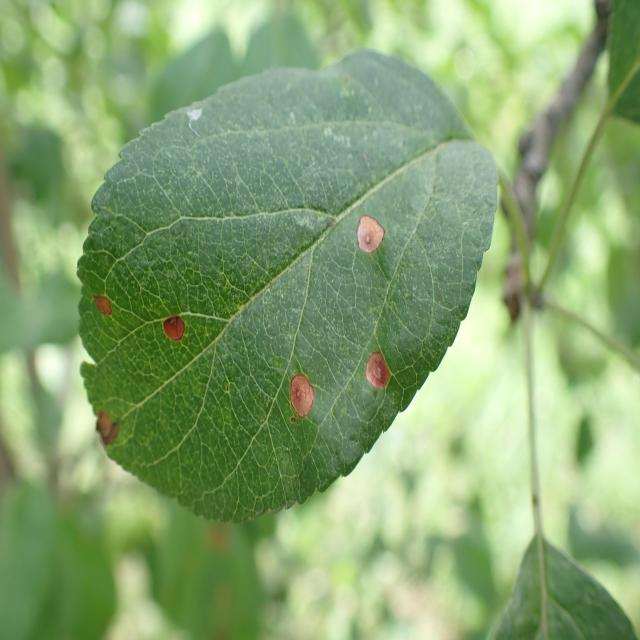Black Rot: (276, 344, 321, 432), (85, 391, 137, 462), (352, 183, 384, 265), (359, 332, 392, 407), (156, 294, 190, 364), (88, 282, 118, 322)
